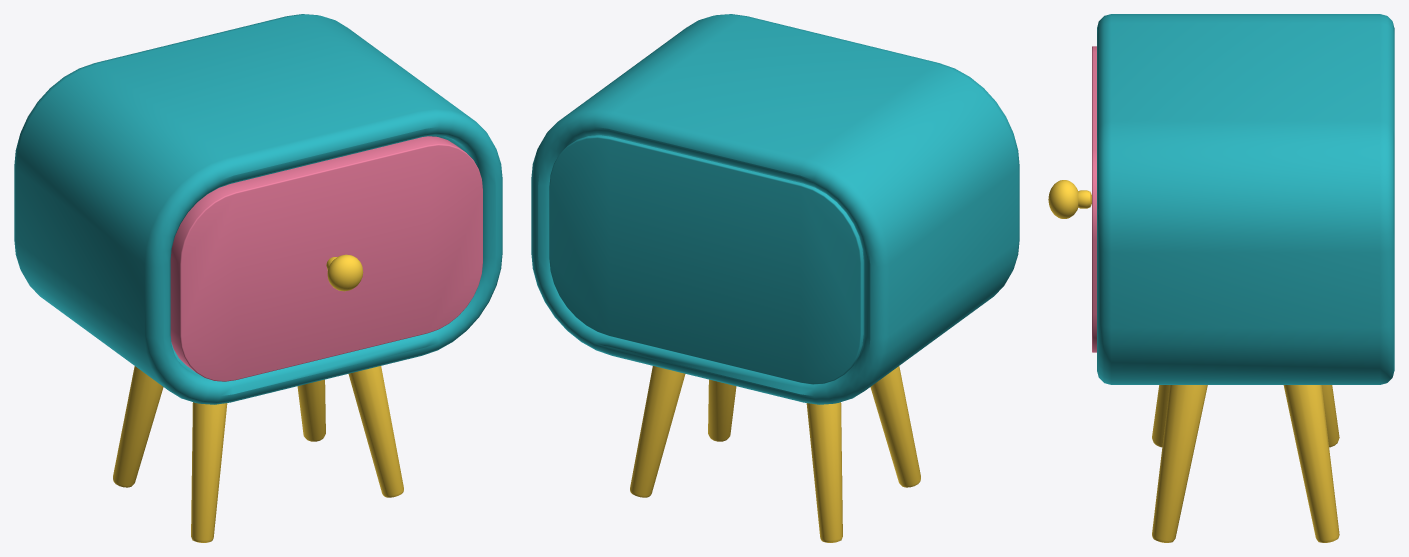
File: criado_oval_turquesa.glb
The picture shows the model from 3 angles, left to right: view 1: azimuth 30°, elevation 25°; view 2: azimuth 150°, elevation 25°; view 3: azimuth 270°, elevation 25°; orthographic projection. The views are drawn at different scales.
Visible parts, largest first — view 1: criado_oval_turquesa, gaveta_1; view 2: criado_oval_turquesa; view 3: criado_oval_turquesa, gaveta_1.
Boxes of the visible parts, left/top/right/bottom form: criado_oval_turquesa: left=14, top=14, right=502, bottom=542; gaveta_1: left=170, top=136, right=482, bottom=381; criado_oval_turquesa: left=531, top=14, right=1019, bottom=542; criado_oval_turquesa: left=1097, top=14, right=1394, bottom=542; gaveta_1: left=1048, top=46, right=1096, bottom=352.
Bounding box in the file's own units: 0.52 × 0.562 × 0.4186.
Materials: 1 (1 with a texture image).
